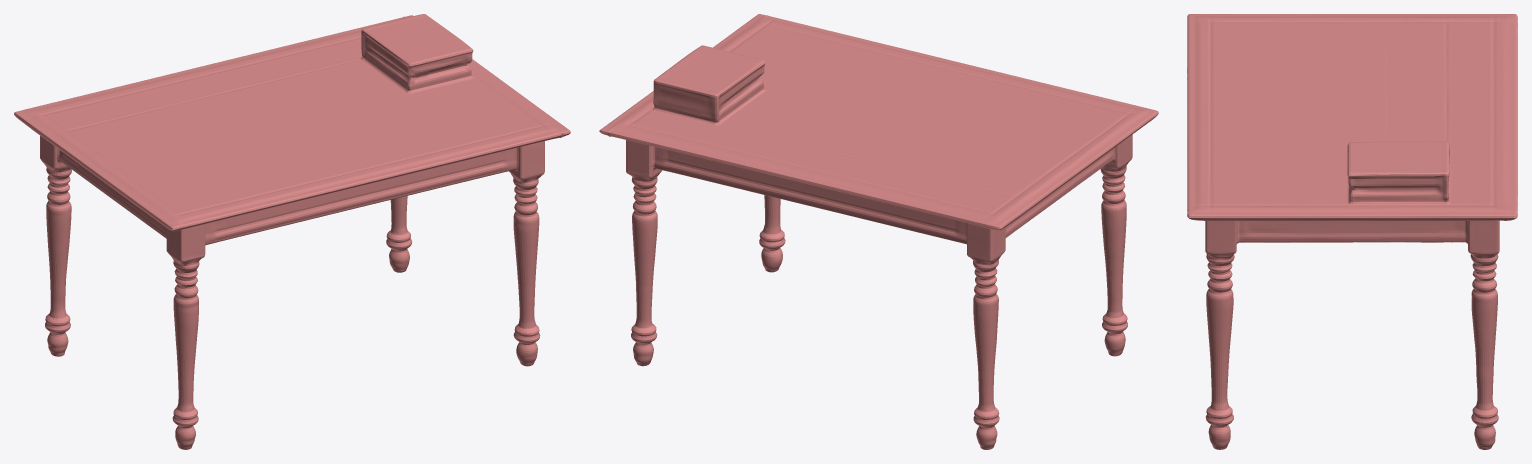
The picture shows the model from 3 angles, left to right: view 1: azimuth 30°, elevation 25°; view 2: azimuth 150°, elevation 25°; view 3: azimuth 270°, elevation 25°; orthographic projection. The views are drawn at different scales.
Parts seen in each view (by area): view 1: world; view 2: world; view 3: world.
Boxes of the visible parts, bbox=[...] form: world: bbox=[14, 14, 570, 449]; world: bbox=[599, 14, 1158, 449]; world: bbox=[1187, 14, 1517, 449].
Size of the model in its own units: 1.96 by 1.26 by 1.35.
